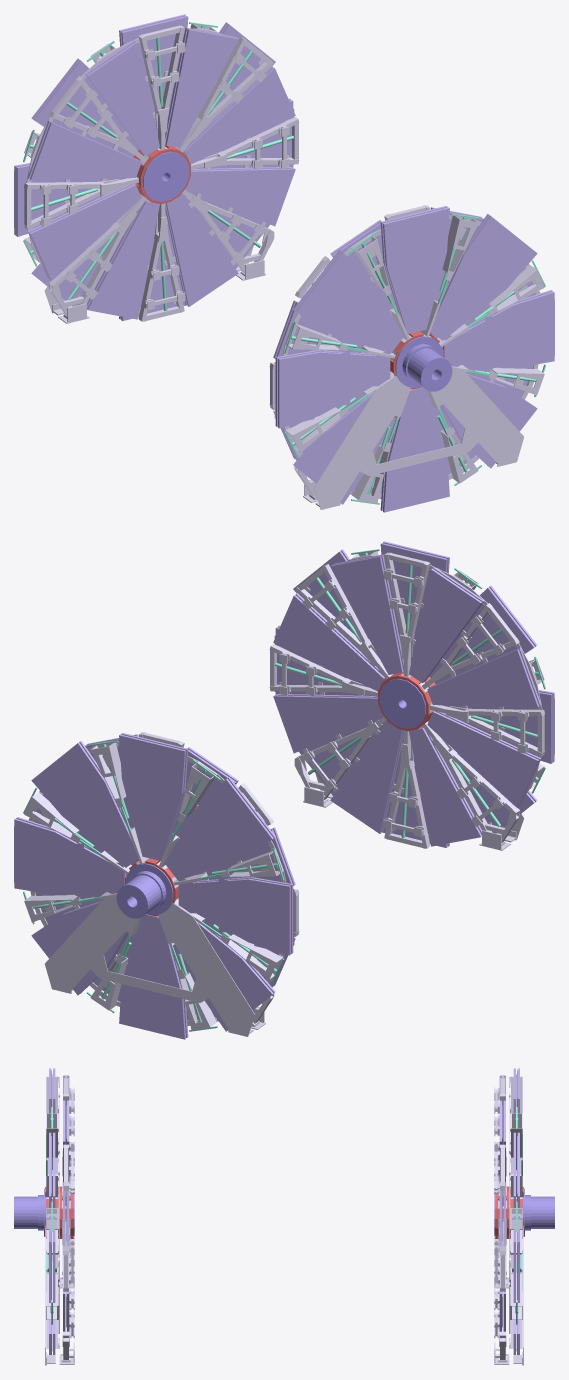
File: Small Wheel.glb
3 views of the same model, one above another, from view 1: azimuth 30°, elevation 25°; view 2: azimuth 150°, elevation 25°; view 3: azimuth 270°, elevation 25° (orthographic). The views are drawn at different scales.
Parts seen in each view (by area): view 1: _04DACB68, _05350AB8, _05268DB8, _1F1E5C68, _1F137F38; view 2: _04DACB68, _05350AB8, _05268DB8, _1F1E5C68, _1F137F38; view 3: _05350AB8, _04DACB68, _1F1E5C68, _1F137F38, _05268DB8, _0532A6A8.
Part boxes in pixels (<box>): _04DACB68: <box>14,14,554,512</box>; _05350AB8: <box>24,24,544,509</box>; _05268DB8: <box>23,22,545,504</box>; _1F1E5C68: <box>143,151,452,391</box>; _1F137F38: <box>133,145,443,389</box>; _04DACB68: <box>14,541,554,1039</box>; _05350AB8: <box>24,551,544,1036</box>; _05268DB8: <box>23,549,545,1031</box>; _1F1E5C68: <box>116,678,425,918</box>; _1F137F38: <box>125,672,435,916</box>; _05350AB8: <box>45,1075,523,1365</box>; _04DACB68: <box>49,1068,519,1354</box>; _1F1E5C68: <box>14,1188,554,1236</box>; _1F137F38: <box>45,1186,523,1238</box>; _05268DB8: <box>46,1074,522,1351</box>; _0532A6A8: <box>51,1070,517,1354</box>.
Bounding box in the file's own units: 9.29 × 9.29 × 17.79.
